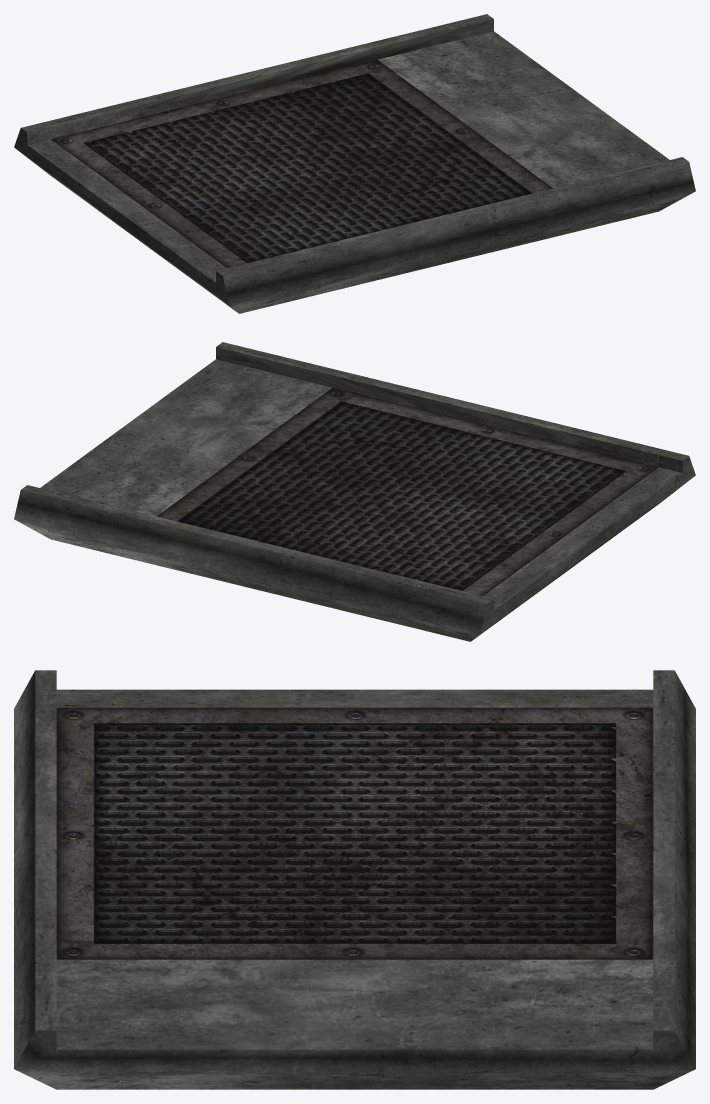
The model's file is catwalk_A_1.fbx.
3 renders of one model, top to bottom at view 1: azimuth 30°, elevation 25°; view 2: azimuth 150°, elevation 25°; view 3: azimuth 270°, elevation 25°, orthographic. The views are drawn at different scales.
Visible parts, largest first — view 1: pCube251, polySurface488; view 2: pCube251, polySurface488; view 3: polySurface488, pCube251.
Part boxes in pixels (box(x1,y1,x2,y2)): pCube251: box(14, 14, 695, 313); polySurface488: box(51, 59, 552, 267); pCube251: box(14, 342, 695, 641); polySurface488: box(157, 387, 658, 595); polySurface488: box(56, 707, 653, 959); pCube251: box(14, 670, 695, 1089).
Bounding box in the file's own units: 1000 × 100 × 800.
